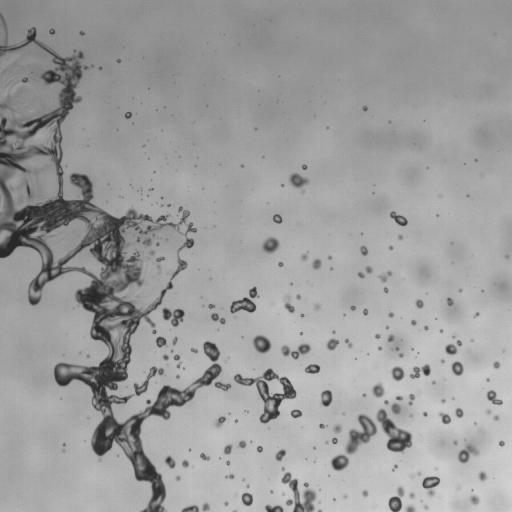droplet: (229, 286, 260, 313), (457, 438, 479, 463), (161, 307, 185, 327), (288, 172, 309, 193), (251, 334, 272, 355), (421, 476, 440, 497), (261, 236, 279, 254), (444, 339, 462, 355), (389, 211, 407, 226), (486, 390, 503, 405), (371, 381, 385, 398), (390, 366, 405, 381), (320, 389, 332, 407), (377, 270, 392, 283), (451, 360, 463, 375), (438, 411, 451, 424), (240, 492, 252, 506), (155, 336, 168, 348), (326, 338, 339, 350), (304, 364, 320, 373), (214, 416, 226, 428), (275, 448, 286, 461), (164, 455, 175, 468), (289, 409, 302, 419), (31, 69, 42, 80), (51, 81, 62, 92), (49, 98, 60, 109), (62, 181, 73, 192), (168, 211, 179, 222), (179, 248, 190, 259), (270, 249, 281, 260), (358, 255, 369, 266), (80, 276, 91, 287), (161, 297, 172, 308), (218, 306, 229, 317), (410, 307, 421, 318), (150, 309, 161, 320), (296, 318, 307, 329), (128, 334, 139, 345), (269, 342, 280, 353), (98, 346, 109, 357), (299, 353, 310, 364), (252, 367, 263, 378), (383, 376, 394, 387), (174, 379, 185, 390), (196, 385, 207, 396), (146, 389, 157, 400), (383, 389, 394, 400), (372, 397, 383, 408), (279, 399, 290, 410), (135, 400, 146, 411), (92, 412, 103, 423), (114, 412, 125, 423), (148, 413, 159, 424), (323, 427, 334, 438), (377, 431, 388, 442), (338, 432, 349, 443), (356, 441, 367, 452), (334, 443, 345, 454), (188, 453, 199, 464), (154, 462, 165, 473), (160, 474, 171, 485), (140, 479, 151, 490), (473, 480, 484, 491), (160, 497, 171, 508), (252, 498, 263, 509), (311, 258, 321, 269), (332, 423, 342, 434), (469, 494, 479, 505), (300, 250, 309, 261), (454, 407, 463, 418), (223, 444, 232, 455), (403, 504, 416, 511), (272, 214, 282, 223), (344, 338, 353, 348), (200, 452, 210, 461), (478, 471, 487, 481), (360, 245, 368, 256), (415, 299, 424, 308), (7, 86, 16, 95), (73, 86, 82, 95), (61, 172, 70, 181), (284, 182, 293, 191), (90, 185, 99, 194), (113, 209, 122, 218), (257, 234, 266, 243), (13, 245, 22, 254), (320, 258, 329, 267), (372, 266, 381, 275), (43, 281, 52, 290), (429, 322, 438, 331), (170, 326, 179, 335), (297, 335, 306, 344), (378, 336, 387, 345), (95, 339, 104, 348), (336, 341, 345, 350), (159, 345, 168, 354), (447, 353, 456, 362), (203, 358, 212, 367), (395, 358, 404, 367), (403, 366, 412, 375), (70, 378, 79, 387), (230, 381, 239, 390), (82, 384, 91, 393), (313, 394, 322, 403), (398, 399, 407, 408), (490, 403, 499, 412), (167, 404, 176, 413), (368, 411, 377, 420), (386, 411, 395, 420), (334, 415, 343, 424), (246, 443, 255, 452), (142, 447, 151, 456), (173, 455, 182, 464), (282, 483, 291, 492), (285, 489, 294, 498), (400, 496, 409, 505), (410, 498, 419, 507), (446, 297, 454, 306), (237, 440, 246, 448), (181, 459, 189, 468), (505, 437, 511, 448), (240, 505, 251, 511), (282, 505, 293, 511), (468, 505, 479, 511), (313, 303, 321, 311), (365, 265, 372, 274), (202, 502, 209, 511), (224, 473, 234, 479), (124, 112, 132, 119), (387, 334, 394, 342), (162, 353, 169, 361), (493, 361, 500, 369), (408, 491, 415, 499), (0, 193, 5, 204), (0, 231, 5, 242), (318, 423, 327, 429), (256, 445, 263, 452), (391, 464, 398, 471), (19, 34, 26, 41), (7, 39, 14, 46), (4, 50, 11, 57), (78, 58, 85, 65), (19, 59, 26, 66), (48, 63, 55, 70), (76, 167, 83, 174), (298, 169, 305, 176), (87, 174, 94, 181), (292, 186, 299, 193), (62, 193, 69, 200), (150, 213, 157, 220), (172, 216, 179, 223), (184, 216, 191, 223), (186, 231, 193, 238), (272, 232, 279, 239), (277, 239, 284, 246), (256, 244, 263, 251), (3, 255, 10, 262), (307, 255, 314, 262), (74, 270, 81, 277), (60, 272, 67, 279), (53, 276, 60, 283), (289, 299, 296, 306), (156, 304, 163, 311), (168, 305, 175, 312), (355, 306, 362, 313), (293, 308, 300, 315), (87, 310, 94, 317), (138, 317, 145, 324), (164, 318, 171, 325), (416, 321, 423, 328), (380, 333, 387, 340), (266, 334, 273, 341), (165, 336, 172, 343), (337, 336, 344, 343), (375, 338, 382, 345), (449, 338, 456, 345), (389, 340, 396, 347), (196, 344, 203, 351), (248, 344, 255, 351), (289, 344, 296, 351), (264, 349, 271, 356), (215, 357, 222, 364), (416, 361, 423, 368), (196, 370, 203, 377), (402, 373, 409, 380), (369, 379, 376, 386), (116, 380, 123, 387), (51, 381, 58, 388), (169, 381, 176, 388), (485, 383, 492, 390), (56, 384, 63, 391), (105, 388, 112, 395), (366, 389, 373, 396), (140, 392, 147, 399), (381, 392, 388, 399), (149, 395, 156, 402), (402, 395, 409, 402), (388, 396, 395, 403), (184, 400, 191, 407), (448, 411, 455, 418), (375, 421, 382, 428), (139, 422, 146, 429), (138, 432, 145, 439), (409, 435, 416, 442), (472, 441, 479, 448), (456, 443, 463, 450), (89, 450, 96, 457), (103, 450, 110, 457), (329, 451, 336, 458), (346, 452, 353, 459), (223, 453, 230, 460), (174, 459, 181, 466), (125, 460, 132, 467), (126, 463, 133, 470), (326, 464, 333, 471), (127, 466, 134, 473), (225, 466, 232, 473), (337, 468, 344, 475), (296, 483, 303, 490), (308, 483, 315, 490), (314, 492, 321, 499), (478, 495, 485, 502), (464, 498, 471, 505), (310, 499, 317, 506), (183, 500, 190, 507), (279, 500, 286, 507), (141, 501, 148, 508), (357, 272, 365, 278), (388, 310, 394, 318), (190, 347, 198, 353), (395, 395, 403, 401), (362, 489, 368, 497), (172, 336, 177, 345), (222, 506, 231, 511), (414, 506, 423, 511), (362, 308, 368, 315), (485, 408, 491, 415), (493, 414, 499, 421), (331, 437, 337, 444), (498, 440, 505, 446), (49, 28, 55, 34), (301, 164, 307, 170), (397, 234, 403, 240), (350, 305, 356, 311), (473, 312, 479, 318), (374, 333, 380, 339), (225, 459, 231, 465), (455, 484, 461, 490), (0, 93, 4, 102), (0, 191, 4, 200), (383, 286, 388, 293), (208, 304, 215, 309), (79, 30, 85, 35), (362, 105, 367, 111), (148, 186, 154, 191), (278, 261, 283, 267), (411, 320, 417, 325), (440, 398, 446, 403), (243, 408, 249, 413), (422, 411, 427, 417), (175, 475, 180, 481), (207, 507, 214, 511), (398, 507, 405, 511), (116, 58, 121, 63), (388, 245, 393, 250), (327, 255, 332, 260), (296, 294, 301, 299), (451, 333, 456, 338), (175, 374, 180, 379), (342, 494, 347, 499), (223, 501, 228, 506), (423, 504, 428, 509), (2, 13, 7, 18), (4, 18, 9, 23), (26, 24, 31, 29), (6, 26, 11, 31), (34, 34, 39, 39), (29, 40, 34, 45), (41, 49, 46, 54), (82, 51, 87, 56), (60, 53, 65, 58), (48, 54, 53, 59), (93, 64, 98, 69), (79, 66, 84, 71), (1, 74, 6, 79), (79, 76, 84, 81), (19, 81, 24, 86), (23, 81, 28, 86), (67, 108, 72, 113), (64, 114, 69, 119), (128, 116, 133, 121), (59, 121, 64, 126), (60, 139, 65, 144), (59, 160, 64, 165), (301, 183, 306, 188), (142, 189, 147, 194), (141, 193, 146, 198), (78, 195, 83, 200), (89, 198, 94, 203), (157, 198, 162, 203), (162, 199, 167, 204), (182, 205, 187, 210), (141, 210, 146, 215), (161, 210, 166, 215), (395, 210, 400, 215), (177, 211, 182, 216), (405, 215, 410, 220), (165, 217, 170, 222), (389, 217, 394, 222), (397, 224, 402, 229), (392, 234, 397, 239), (398, 239, 403, 244), (190, 245, 195, 250), (26, 246, 31, 251), (182, 246, 187, 251), (366, 246, 371, 251), (356, 250, 361, 255), (366, 251, 371, 256), (296, 252, 301, 257), (180, 255, 185, 260), (368, 262, 373, 267), (36, 266, 41, 271), (388, 266, 393, 271), (382, 267, 387, 272), (313, 268, 318, 273), (178, 269, 183, 274), (361, 269, 366, 274), (78, 271, 83, 276), (31, 272, 36, 277), (355, 275, 360, 280), (386, 275, 391, 280), (375, 277, 380, 282), (170, 279, 175, 284), (382, 281, 387, 286), (165, 289, 170, 294), (291, 292, 296, 297), (245, 293, 250, 298), (237, 295, 242, 300), (250, 297, 255, 302), (442, 298, 447, 303), (24, 299, 29, 304), (422, 299, 427, 304), (36, 301, 41, 306), (411, 303, 416, 308), (178, 304, 183, 309), (225, 305, 230, 310), (417, 307, 422, 312), (209, 308, 214, 313), (239, 308, 244, 313), (283, 308, 288, 313), (367, 309, 372, 314), (251, 310, 256, 315), (217, 313, 222, 318), (181, 314, 186, 319), (392, 314, 397, 319), (412, 315, 417, 320), (386, 316, 391, 321), (208, 318, 213, 323), (214, 319, 219, 324), (148, 326, 153, 331), (372, 329, 377, 334), (376, 329, 381, 334), (154, 332, 159, 337), (332, 334, 337, 339), (209, 338, 214, 343), (128, 340, 133, 345), (281, 340, 286, 345), (308, 342, 313, 347), (215, 343, 220, 348), (334, 344, 339, 349), (351, 344, 356, 349), (455, 345, 460, 350), (413, 346, 418, 351), (440, 346, 445, 351), (347, 347, 352, 352), (398, 347, 403, 352), (173, 349, 178, 354), (328, 349, 333, 354), (411, 350, 416, 355), (81, 351, 86, 356), (129, 352, 134, 357), (168, 353, 173, 358), (286, 353, 291, 358), (297, 353, 302, 358), (178, 356, 183, 361), (496, 357, 501, 362), (55, 358, 60, 363), (63, 358, 68, 363), (173, 359, 178, 364), (312, 359, 317, 364), (459, 359, 464, 364), (52, 360, 57, 365), (315, 360, 320, 365), (94, 361, 99, 366), (126, 362, 131, 367), (488, 362, 493, 367), (155, 364, 160, 369), (498, 364, 503, 369), (262, 366, 267, 371), (318, 367, 323, 372), (429, 367, 434, 372), (462, 367, 467, 372), (492, 367, 497, 372), (175, 368, 180, 373), (272, 368, 277, 373), (144, 369, 149, 374), (448, 369, 453, 374), (231, 370, 236, 375), (418, 370, 423, 375), (49, 372, 54, 377), (277, 372, 282, 377), (307, 372, 312, 377), (312, 372, 317, 377), (387, 372, 392, 377), (241, 373, 246, 378), (455, 374, 460, 379), (50, 376, 55, 381), (148, 377, 153, 382), (391, 378, 396, 383), (137, 380, 142, 385), (251, 382, 256, 387), (237, 383, 242, 388), (201, 384, 206, 389), (292, 384, 297, 389), (323, 385, 328, 390), (216, 387, 221, 392), (493, 387, 498, 392), (130, 388, 135, 393), (409, 388, 414, 393), (193, 391, 198, 396), (295, 391, 300, 396), (330, 392, 335, 397), (440, 393, 445, 398), (482, 394, 487, 399), (494, 394, 499, 399), (445, 397, 450, 402), (126, 398, 131, 403), (258, 398, 263, 403), (395, 399, 400, 404), (486, 399, 491, 404), (149, 400, 154, 405), (328, 401, 333, 406), (110, 402, 115, 407), (320, 404, 325, 409), (461, 407, 466, 412), (259, 408, 264, 413), (480, 408, 485, 413), (219, 411, 224, 416), (488, 413, 493, 418), (276, 414, 281, 419), (498, 415, 503, 420), (295, 416, 300, 421), (437, 416, 442, 421), (458, 416, 463, 421), (165, 418, 170, 423), (268, 418, 273, 423), (491, 419, 496, 424), (222, 420, 227, 425), (440, 422, 445, 427), (332, 432, 337, 437), (239, 435, 244, 440), (244, 439, 249, 444), (327, 439, 332, 444), (223, 440, 228, 445), (261, 444, 266, 449), (219, 445, 224, 450), (403, 446, 408, 451), (230, 447, 235, 452), (239, 447, 244, 452), (261, 447, 266, 452), (274, 447, 279, 452), (387, 449, 392, 454), (395, 450, 400, 455), (204, 451, 209, 456), (161, 454, 166, 459), (270, 454, 275, 459), (281, 455, 286, 460), (198, 457, 203, 462), (187, 459, 192, 464), (458, 461, 463, 466), (463, 461, 468, 466), (284, 467, 289, 472), (412, 467, 417, 472), (225, 470, 230, 475), (484, 470, 489, 475), (279, 471, 284, 476), (428, 471, 433, 476), (290, 474, 295, 479), (474, 474, 479, 479), (418, 476, 423, 481), (226, 477, 231, 482), (483, 478, 488, 483), (432, 485, 437, 490), (422, 487, 427, 492), (246, 488, 251, 493), (357, 490, 362, 495), (367, 490, 372, 495), (472, 490, 477, 495), (237, 491, 242, 496), (392, 491, 397, 496), (468, 491, 473, 496), (236, 495, 241, 500), (251, 495, 256, 500), (364, 495, 369, 500), (384, 496, 389, 501), (204, 498, 209, 503), (251, 498, 256, 503), (187, 501, 192, 506), (269, 502, 274, 507), (289, 503, 294, 508), (453, 439, 457, 445), (0, 25, 3, 32), (0, 189, 3, 196), (0, 256, 3, 263), (166, 203, 171, 207), (504, 254, 509, 258), (300, 313, 304, 318), (424, 325, 428, 330), (438, 329, 443, 333), (377, 346, 382, 350), (398, 353, 403, 357), (440, 359, 445, 363), (486, 377, 490, 382), (431, 380, 436, 384), (317, 500, 321, 505), (98, 66, 102, 70), (458, 288, 462, 292), (385, 325, 389, 329), (299, 331, 303, 335), (470, 338, 474, 342), (86, 354, 90, 358), (362, 393, 366, 397), (451, 396, 455, 400), (409, 413, 413, 417), (234, 419, 238, 423), (324, 440, 328, 444), (417, 389, 420, 394), (433, 467, 438, 470), (242, 477, 245, 482), (508, 254, 511, 259), (197, 508, 202, 511), (261, 508, 266, 511), (312, 508, 317, 511), (386, 508, 391, 511), (421, 508, 426, 511), (142, 144, 146, 147), (474, 158, 477, 162), (240, 164, 244, 167), (438, 194, 442, 197), (160, 204, 164, 207), (330, 266, 333, 270), (289, 282, 293, 285), (270, 302, 274, 305), (342, 313, 346, 316), (332, 330, 335, 334), (395, 347, 399, 350), (411, 347, 414, 351), (170, 349, 173, 353), (182, 366, 185, 370), (473, 421, 476, 425), (246, 484, 249, 488), (281, 492, 285, 495), (332, 497, 335, 501), (232, 509, 237, 511), (317, 509, 322, 511), (0, 67, 2, 72), (388, 120, 391, 123), (254, 127, 257, 130), (326, 126, 329, 129), (153, 170, 156, 173), (146, 194, 149, 197), (466, 194, 469, 197), (160, 196, 163, 199), (360, 232, 363, 235), (450, 241, 453, 244), (209, 277, 212, 280), (481, 289, 484, 292), (200, 295, 203, 298), (78, 351, 81, 354), (366, 352, 369, 355), (166, 363, 169, 366), (228, 412, 231, 415), (342, 412, 345, 415), (312, 446, 315, 449), (188, 448, 191, 451), (116, 454, 119, 457), (318, 488, 321, 491), (270, 490, 273, 493), (47, 26, 50, 29), (82, 29, 85, 32), (54, 30, 57, 33), (48, 33, 51, 36), (51, 33, 54, 36), (78, 34, 81, 37), (82, 34, 85, 37), (36, 45, 39, 48), (114, 56, 117, 59), (119, 56, 122, 59), (91, 61, 94, 64), (116, 62, 119, 65), (87, 64, 90, 67), (101, 66, 104, 69), (98, 69, 101, 72), (24, 74, 27, 77), (18, 77, 21, 80), (27, 77, 30, 80), (10, 80, 13, 83), (8, 83, 11, 86), (1, 84, 4, 87), (362, 102, 365, 105), (366, 104, 369, 107), (359, 107, 362, 110), (127, 108, 130, 111), (366, 108, 369, 111), (362, 110, 365, 113), (121, 112, 124, 115), (122, 116, 125, 119), (422, 116, 425, 119), (60, 132, 63, 135), (140, 141, 143, 144), (144, 141, 147, 144), (143, 146, 146, 149), (61, 149, 64, 152), (476, 156, 479, 159), (471, 159, 474, 162), (476, 160, 479, 163), (238, 161, 241, 164), (303, 161, 306, 164), (460, 162, 463, 165), (243, 163, 246, 166), (237, 165, 240, 168), (306, 166, 309, 169), (153, 167, 156, 170), (240, 167, 243, 170), (149, 170, 152, 173), (153, 172, 156, 175), (128, 180, 131, 183), (277, 183, 280, 186), (136, 186, 139, 189), (371, 188, 374, 191), (137, 190, 140, 193), (150, 190, 153, 193), (467, 191, 470, 194), (160, 193, 163, 196), (139, 195, 142, 198), (467, 196, 470, 199), (167, 200, 170, 203), (152, 201, 155, 204), (163, 203, 166, 206), (175, 207, 178, 210), (276, 211, 279, 214), (437, 211, 440, 214), (438, 214, 441, 217), (269, 215, 272, 218), (280, 215, 283, 218), (433, 215, 436, 218), (281, 219, 284, 222), (272, 221, 275, 224), (275, 222, 278, 225), (403, 224, 406, 227), (357, 233, 360, 236), (362, 233, 365, 236), (402, 235, 405, 238), (192, 243, 195, 246), (386, 243, 389, 246), (391, 243, 394, 246), (391, 248, 394, 251), (388, 249, 391, 252), (328, 252, 331, 255), (331, 255, 334, 258), (282, 261, 285, 264), (276, 265, 279, 268), (280, 265, 283, 268), (332, 265, 335, 268), (330, 269, 333, 272), (391, 272, 394, 275), (292, 281, 295, 284), (287, 283, 290, 286), (249, 285, 252, 288), (386, 285, 389, 288), (459, 285, 462, 288), (481, 286, 484, 289), (478, 287, 481, 290), (255, 288, 258, 291), (380, 288, 383, 291), (455, 288, 458, 291), (461, 289, 464, 292), (387, 290, 390, 293), (295, 291, 298, 294), (382, 291, 385, 294), (481, 291, 484, 294), (299, 293, 302, 296), (449, 295, 452, 298), (208, 300, 211, 303), (211, 301, 214, 304), (228, 302, 231, 305), (350, 302, 353, 305), (204, 304, 207, 307), (450, 304, 453, 307), (348, 308, 351, 311), (390, 309, 393, 312), (300, 310, 303, 313), (386, 310, 389, 313), (472, 311, 475, 314), (478, 311, 481, 314), (360, 312, 363, 315), (339, 313, 342, 316), (434, 314, 437, 317), (344, 315, 347, 318), (475, 315, 478, 318), (301, 316, 304, 319), (434, 319, 437, 322), (224, 320, 227, 323), (424, 322, 427, 325), (220, 323, 223, 326), (409, 323, 412, 326), (382, 325, 385, 328), (427, 325, 430, 328), (421, 326, 424, 329), (298, 328, 301, 331), (329, 328, 332, 331), (436, 328, 439, 331), (426, 329, 429, 332), (442, 329, 445, 332), (296, 331, 299, 334), (302, 331, 305, 334), (240, 332, 243, 335), (374, 337, 377, 340), (176, 338, 179, 341), (460, 340, 463, 343), (153, 341, 156, 344), (175, 341, 178, 344), (411, 344, 414, 347), (374, 346, 377, 349), (392, 346, 395, 349), (187, 348, 190, 351), (366, 349, 369, 352), (377, 349, 380, 352), (396, 350, 399, 353), (191, 351, 194, 354), (364, 354, 367, 357), (351, 355, 354, 358), (356, 356, 359, 359), (354, 359, 357, 362), (149, 364, 152, 367), (179, 364, 182, 367), (184, 367, 187, 370), (179, 374, 182, 377), (483, 376, 486, 379), (488, 376, 491, 379), (432, 383, 435, 386), (361, 390, 364, 393), (395, 393, 398, 396), (359, 394, 362, 397), (449, 394, 452, 397), (362, 396, 365, 399), (502, 400, 505, 403), (499, 403, 502, 406), (90, 405, 93, 408), (295, 406, 298, 409), (245, 407, 248, 410), (227, 408, 230, 411), (299, 408, 302, 411), (240, 409, 243, 412), (243, 411, 246, 414), (426, 412, 429, 415), (422, 415, 425, 418), (290, 416, 293, 419), (257, 419, 260, 422), (319, 420, 322, 423), (470, 420, 473, 423), (476, 420, 479, 423), (236, 421, 239, 424), (316, 422, 319, 425), (316, 425, 319, 428), (500, 437, 503, 440), (450, 441, 453, 444), (495, 441, 498, 444), (59, 442, 62, 445), (65, 442, 68, 445), (255, 443, 258, 446), (259, 443, 262, 446), (497, 444, 500, 447), (502, 444, 505, 447), (60, 445, 63, 448), (63, 445, 66, 448), (315, 445, 318, 448), (185, 448, 188, 451), (190, 448, 193, 451), (310, 448, 313, 451), (255, 450, 258, 453), (197, 451, 200, 454), (259, 451, 262, 454), (304, 454, 307, 457), (208, 458, 211, 461), (203, 459, 206, 462), (303, 459, 306, 462), (394, 461, 397, 464), (223, 463, 226, 466), (228, 463, 231, 466), (390, 464, 393, 467), (397, 464, 400, 467), (388, 468, 391, 471), (391, 471, 394, 474), (232, 472, 235, 475), (221, 475, 224, 478), (179, 477, 182, 480), (269, 486, 272, 489), (272, 489, 275, 492), (267, 491, 270, 494), (346, 495, 349, 498), (335, 497, 338, 500), (222, 499, 225, 502), (330, 499, 333, 502), (221, 503, 224, 506), (227, 503, 230, 506), (262, 155, 264, 158), (426, 166, 428, 169), (217, 328, 219, 331), (502, 349, 504, 352), (354, 357, 357, 359), (414, 356, 417, 358), (86, 417, 89, 419), (250, 440, 252, 443), (471, 488, 473, 491), (321, 509, 324, 511), (132, 122, 134, 124), (116, 128, 118, 130), (161, 129, 163, 131), (147, 157, 149, 159), (65, 165, 67, 167), (194, 165, 196, 167), (372, 192, 374, 194), (176, 214, 178, 216), (436, 214, 438, 216), (213, 225, 215, 227), (425, 292, 427, 294), (202, 305, 204, 307), (435, 317, 437, 319), (241, 336, 243, 338), (417, 352, 419, 354), (253, 368, 255, 370), (125, 385, 127, 387), (60, 397, 62, 399), (219, 457, 221, 459), (328, 474, 330, 476), (420, 500, 422, 502), (0, 19, 1, 22), (151, 179, 152, 181), (108, 183, 109, 185), (305, 458, 307, 459), (192, 465, 193, 467), (156, 109, 157, 110), (137, 190, 138, 191), (400, 317, 401, 318), (401, 339, 402, 340)
ligament: (280, 342, 311, 359), (387, 485, 404, 511), (408, 363, 431, 379), (384, 399, 401, 414), (283, 294, 295, 313), (211, 313, 225, 324), (173, 353, 182, 369), (265, 504, 285, 511), (181, 504, 199, 511), (407, 392, 415, 406), (408, 471, 421, 479), (2, 81, 10, 89), (224, 356, 229, 363), (62, 442, 65, 452), (280, 183, 284, 187), (119, 195, 123, 198), (313, 459, 316, 463), (140, 187, 142, 192), (130, 184, 132, 188)
